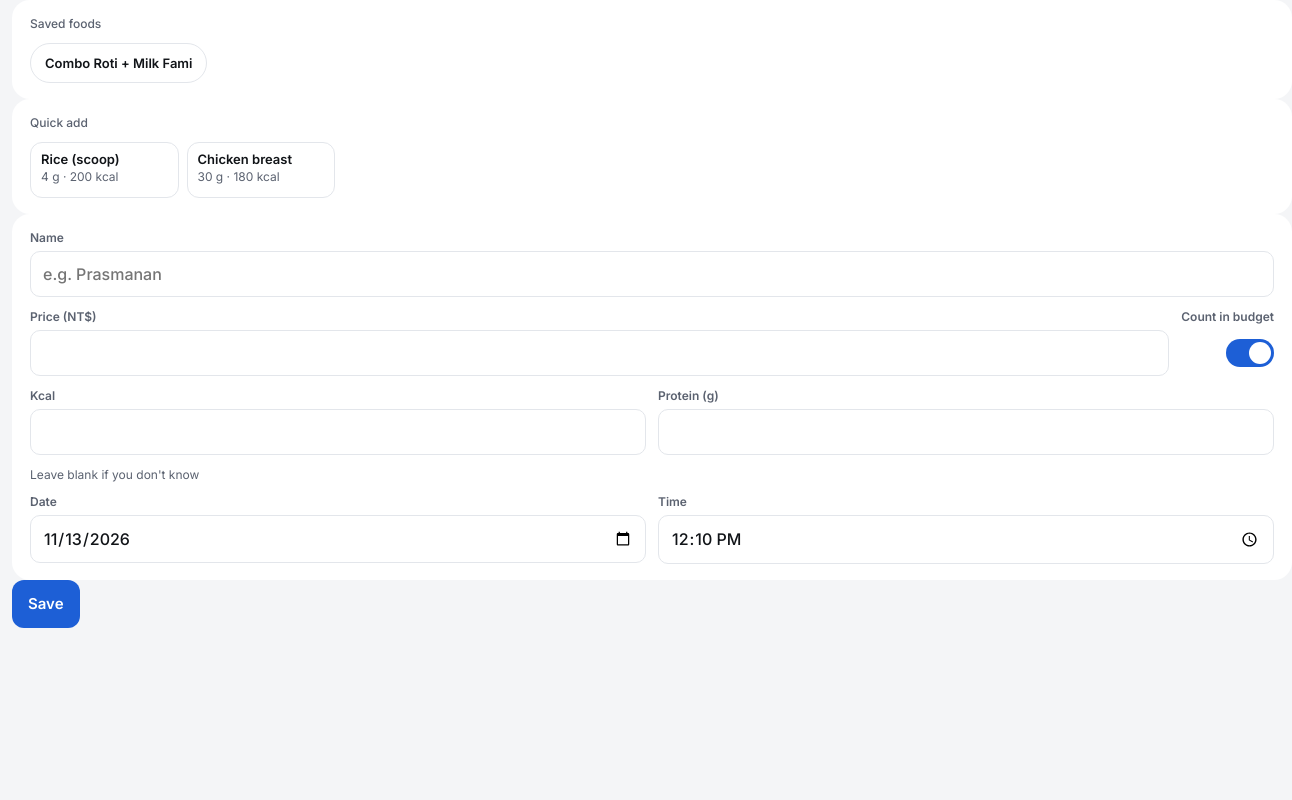
Test: quick-add adds each portion to the totals, names the meal, and − takes one away
Click the button "Chicken breast 30 g · 180 kcal": [261, 170] box [186,142,335,198]
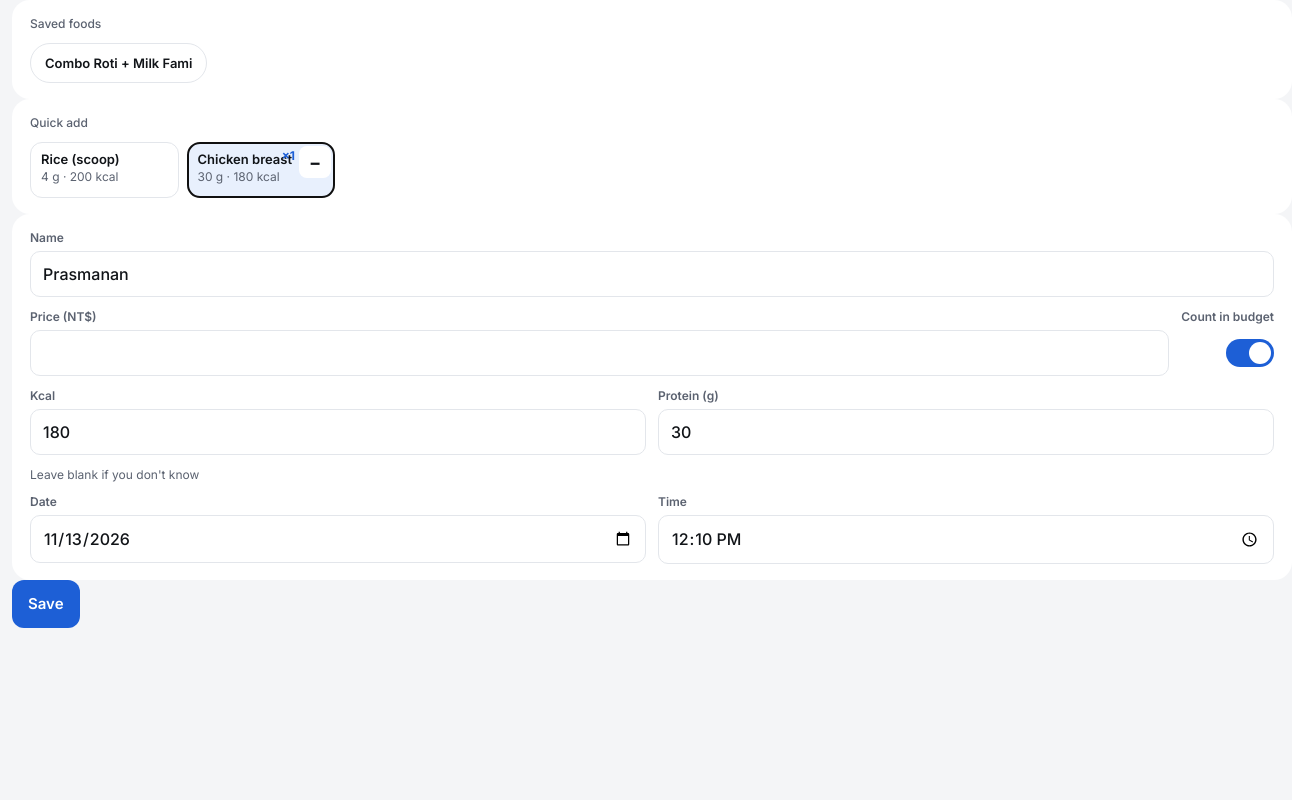
Click the button "Chicken breast 30 g · 180 kcal ×1": [261, 170] box [186,142,335,198]
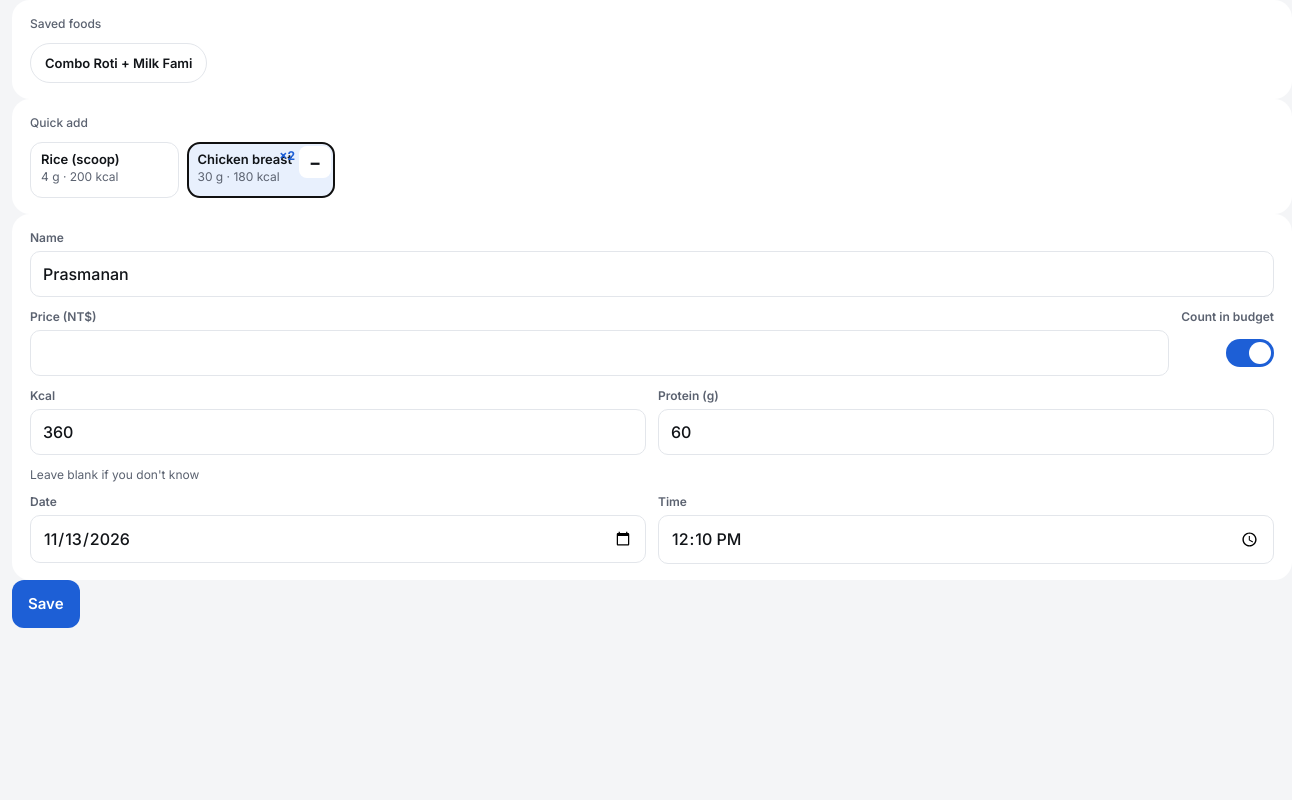
Click the button "Rice (scoop) 4 g · 200 kcal": [104, 170] box [30,142,178,198]
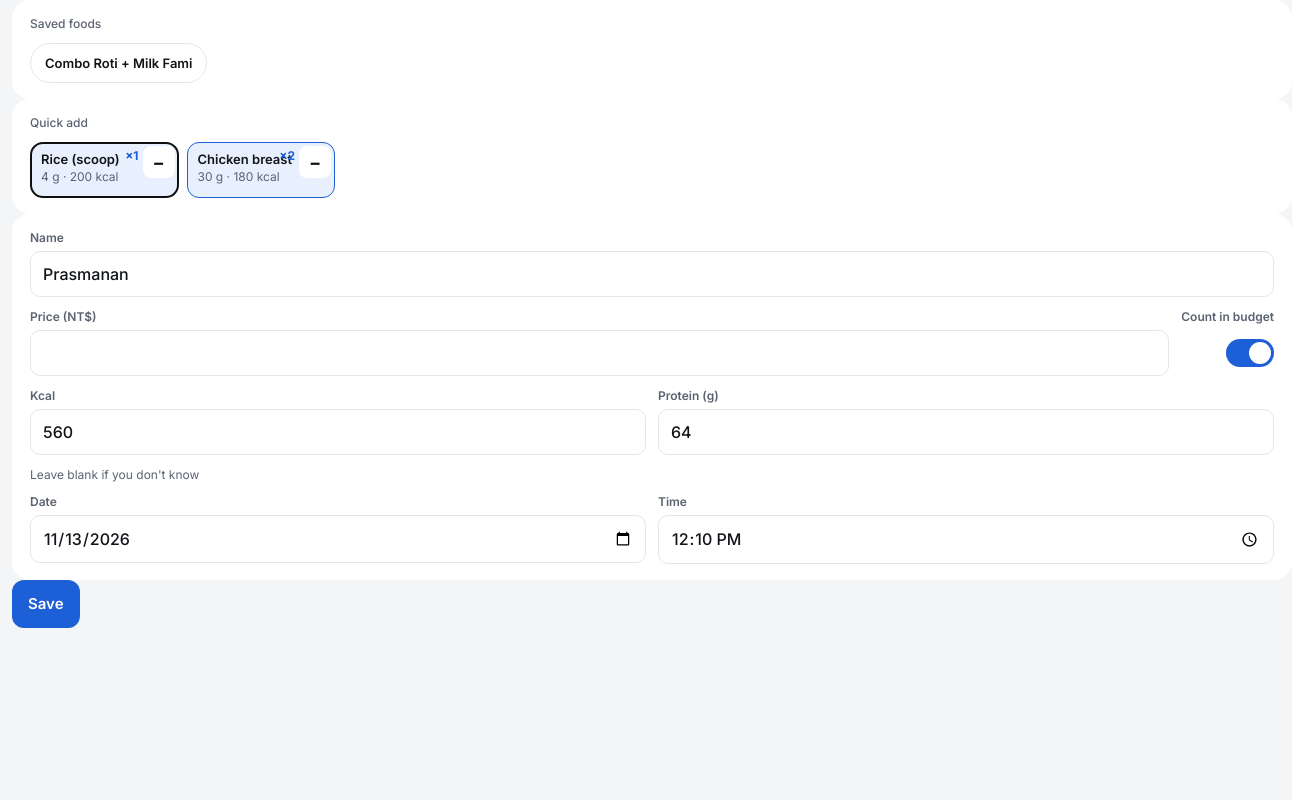
Expected: the field labelled "Name" holds "Prasmanan", [30,251,1274,297]
Expected: the field labelled "Kcal" holds "560", [30,409,646,455]
Expected: the field labelled "Protein (g)" holds "64", [658,409,1274,455]
Click the button named "Remove one Chicken breast": [315, 162] box [299,146,331,178]
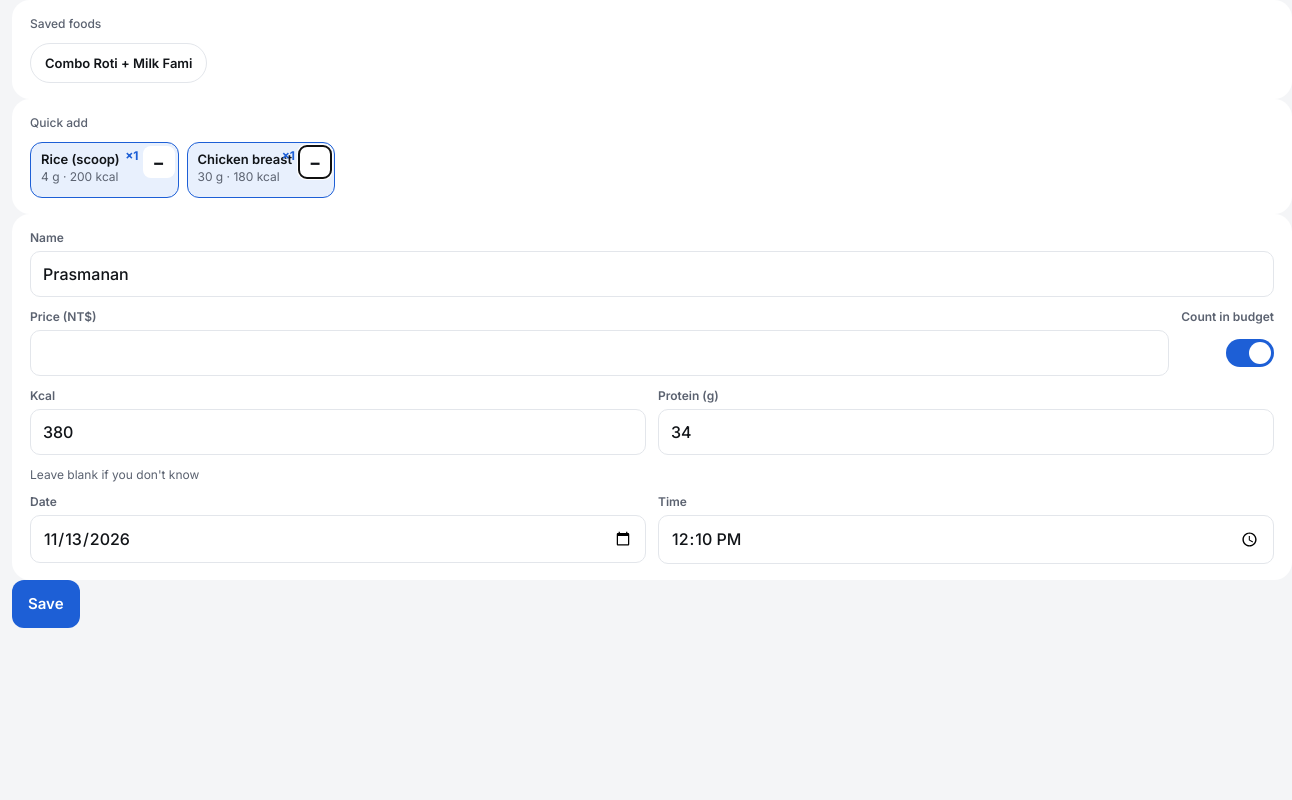
Expected: the field labelled "Kcal" holds "380", [30,409,646,455]
Expected: the field labelled "Protein (g)" holds "34", [658,409,1274,455]
